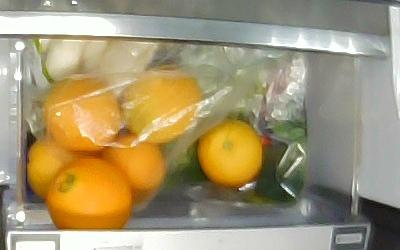orange: (45, 157, 131, 228), (196, 116, 264, 186), (100, 132, 164, 200), (26, 135, 81, 201)
orange_vinyl: (122, 67, 202, 143), (43, 78, 120, 154)
